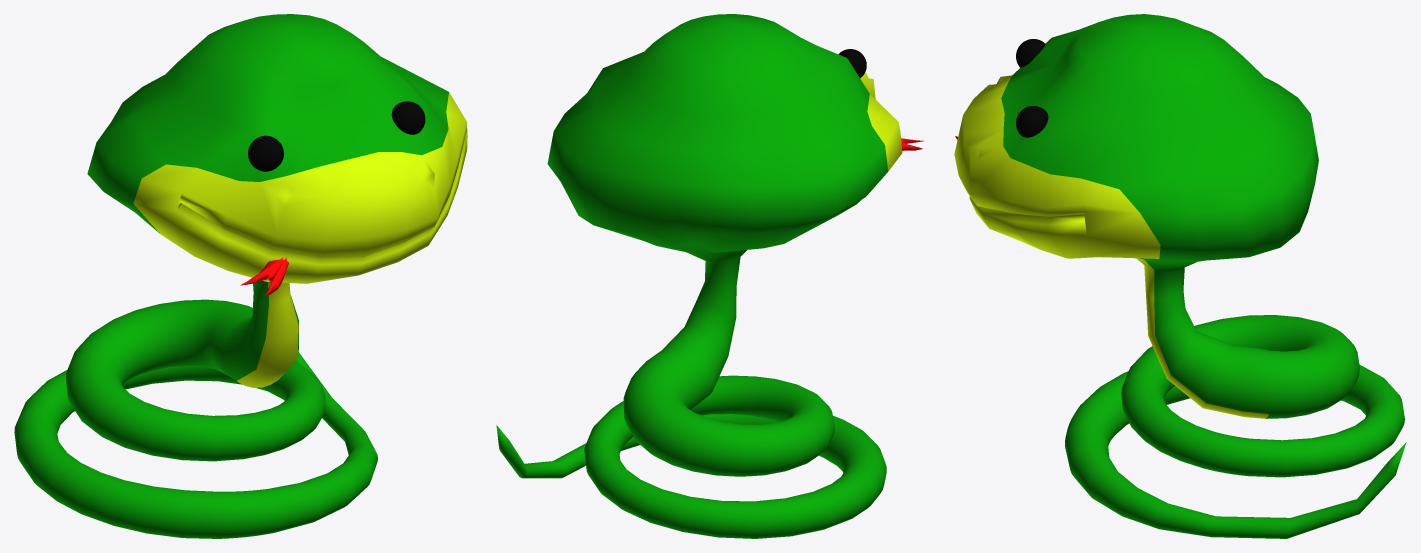
Rendered from snake.FBX.
3 renders of one model, left to right at view 1: azimuth 30°, elevation 25°; view 2: azimuth 150°, elevation 25°; view 3: azimuth 270°, elevation 25°, orthographic. The views are drawn at different scales.
Visible parts, largest first — view 1: Loft001, Sphere001, Sphere002, Line001; view 2: Loft001; view 3: Loft001, Sphere002, Sphere001.
Part boxes in pixels (<box>): Loft001: <box>14,14,467,538</box>; Sphere001: <box>248,135,283,171</box>; Sphere002: <box>391,101,425,134</box>; Line001: <box>240,257,288,295</box>; Loft001: <box>496,14,902,538</box>; Loft001: <box>954,14,1406,538</box>; Sphere002: <box>1016,106,1048,137</box>; Sphere001: <box>1016,39,1045,67</box>.
Size of the model in its own units: 127 by 160 by 143.
